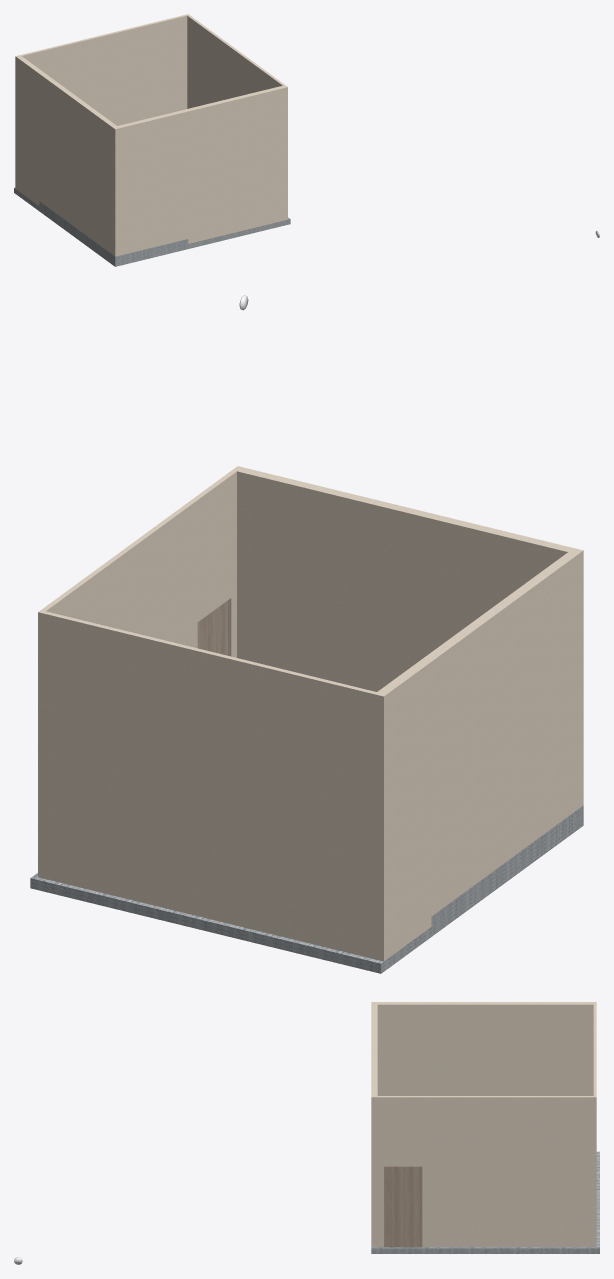
Rendered from Strength.glb.
The picture shows the model from 3 angles, top to bottom: view 1: azimuth 30°, elevation 25°; view 2: azimuth 150°, elevation 25°; view 3: azimuth 270°, elevation 25°; orthographic projection. The views are drawn at different scales.
Parts seen in each view (by area): view 1: 默认; view 2: 默认; view 3: 默认.
Boxes of the visible parts, x1,y1,x2,y2 form: 默认: (14, 14, 599, 266); 默认: (30, 295, 583, 973); 默认: (14, 1002, 599, 1264).
Bounding box in the file's own units: 7.66 × 3.09 × 10.55.
7 materials, 5 textured.
